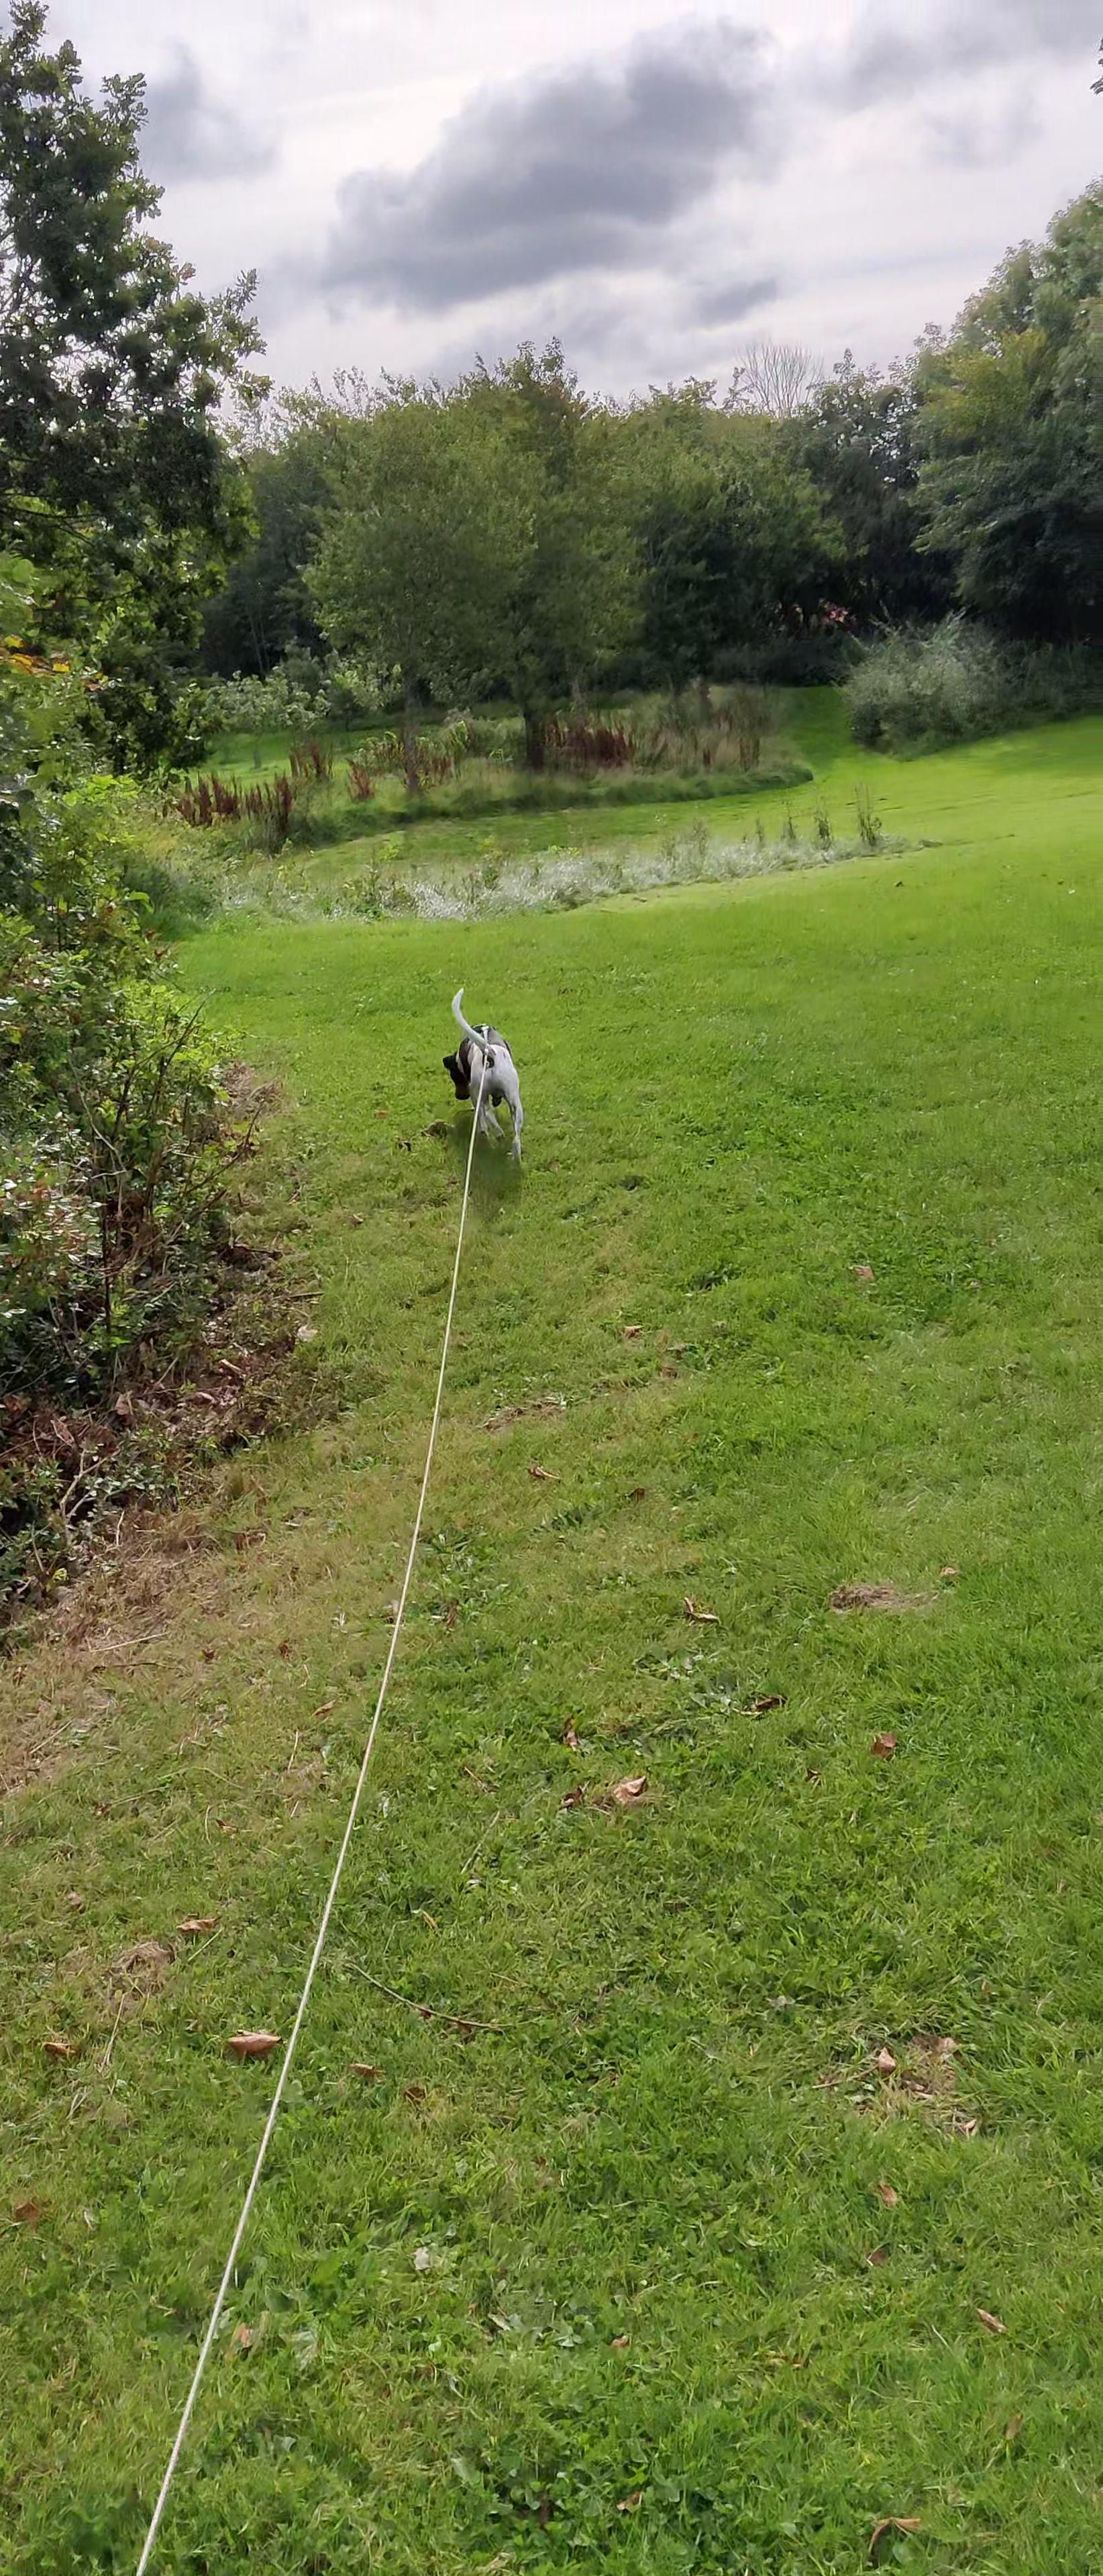Dog: (439, 982, 528, 1166)
